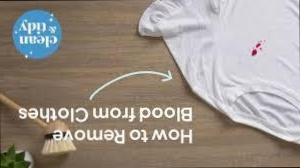blood: (251, 39, 269, 57)
